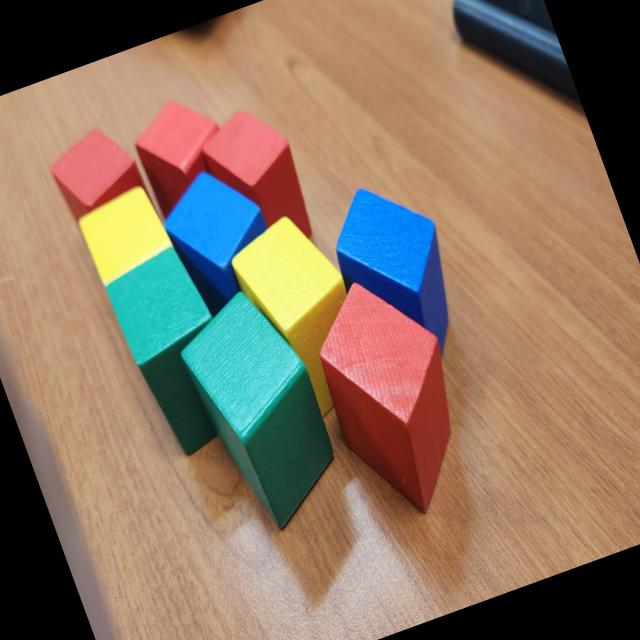blue: (316, 166, 480, 382), (150, 156, 294, 326)
green: (165, 277, 357, 543), (96, 240, 256, 466)
red: (294, 262, 492, 532), (192, 98, 324, 263), (123, 86, 245, 226), (41, 117, 151, 227)
yellow: (221, 204, 388, 433), (74, 184, 176, 289)
